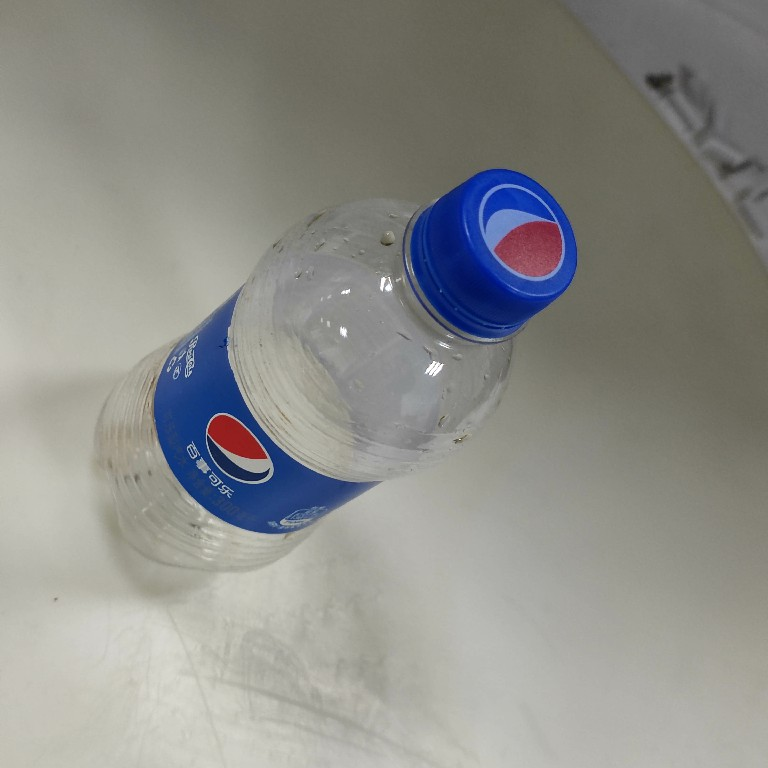bottle: (81, 164, 584, 581)
